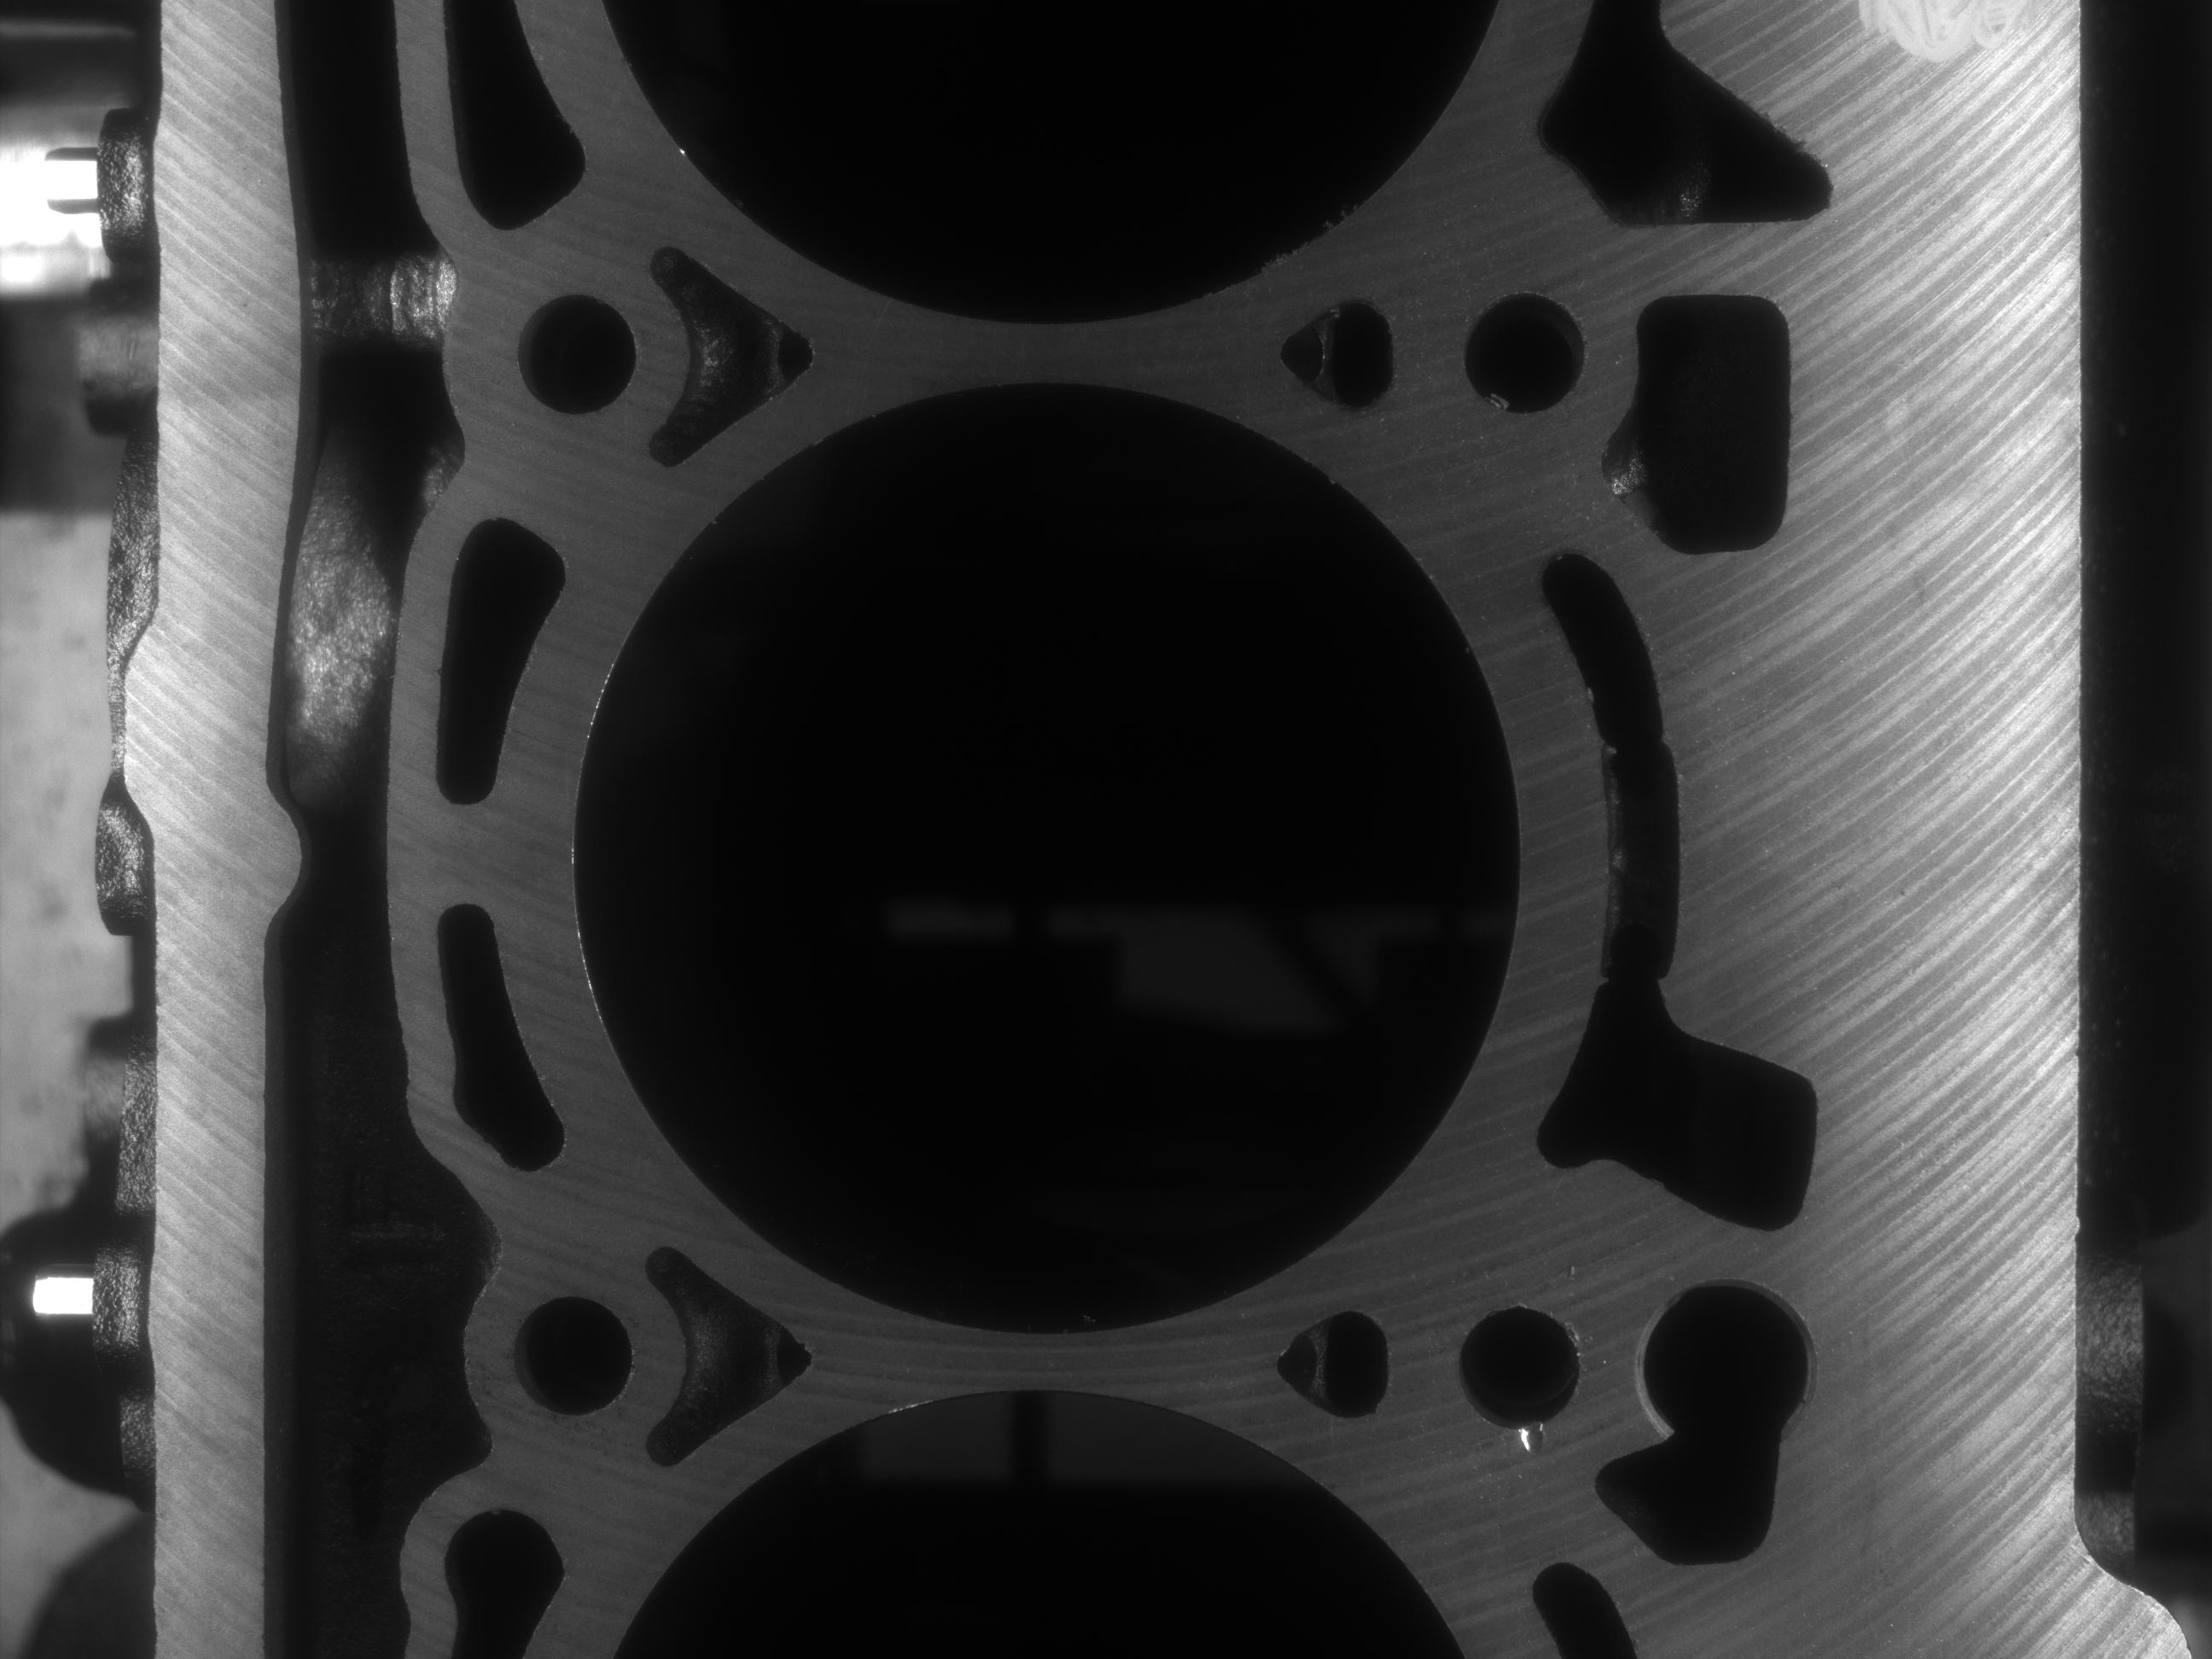shrinkage: (1508, 1419, 1555, 1459)
